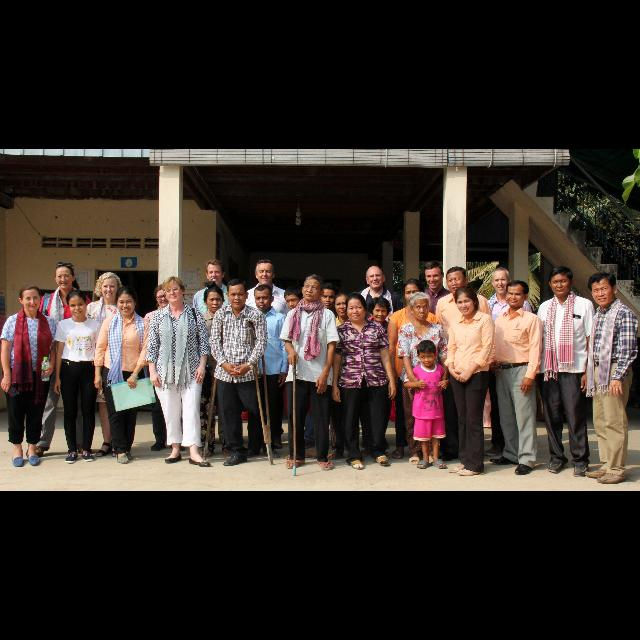head: (546, 266, 576, 298), (590, 274, 618, 308), (227, 279, 250, 311), (454, 286, 478, 316), (18, 285, 42, 313), (505, 280, 529, 308), (115, 287, 137, 317), (423, 260, 445, 290), (446, 266, 468, 296), (301, 276, 325, 302), (417, 340, 439, 368), (99, 273, 121, 301), (54, 262, 76, 290), (345, 294, 367, 322), (253, 284, 274, 312), (254, 260, 276, 286), (370, 296, 390, 324), (492, 267, 512, 295), (163, 278, 184, 304), (203, 288, 224, 314), (68, 292, 88, 318), (206, 260, 226, 286), (284, 286, 304, 312), (404, 280, 424, 306), (410, 294, 430, 320), (334, 292, 352, 318), (366, 266, 386, 288), (320, 285, 336, 309), (156, 286, 172, 308)
person: (528, 266, 596, 478), (23, 260, 92, 458), (145, 276, 213, 468), (328, 289, 399, 471), (276, 274, 340, 472), (431, 266, 495, 464), (206, 277, 270, 469), (343, 265, 405, 457), (236, 258, 296, 452), (389, 290, 451, 470), (94, 284, 154, 466), (0, 284, 58, 470), (386, 278, 444, 464), (491, 279, 545, 477), (444, 284, 496, 480), (484, 266, 536, 462), (52, 288, 108, 466), (84, 272, 136, 458), (188, 258, 236, 458), (191, 280, 241, 460), (416, 259, 458, 463), (243, 284, 291, 460), (143, 282, 189, 452), (278, 285, 320, 461), (307, 282, 345, 466), (324, 292, 364, 462), (356, 294, 396, 462), (402, 340, 452, 470)
